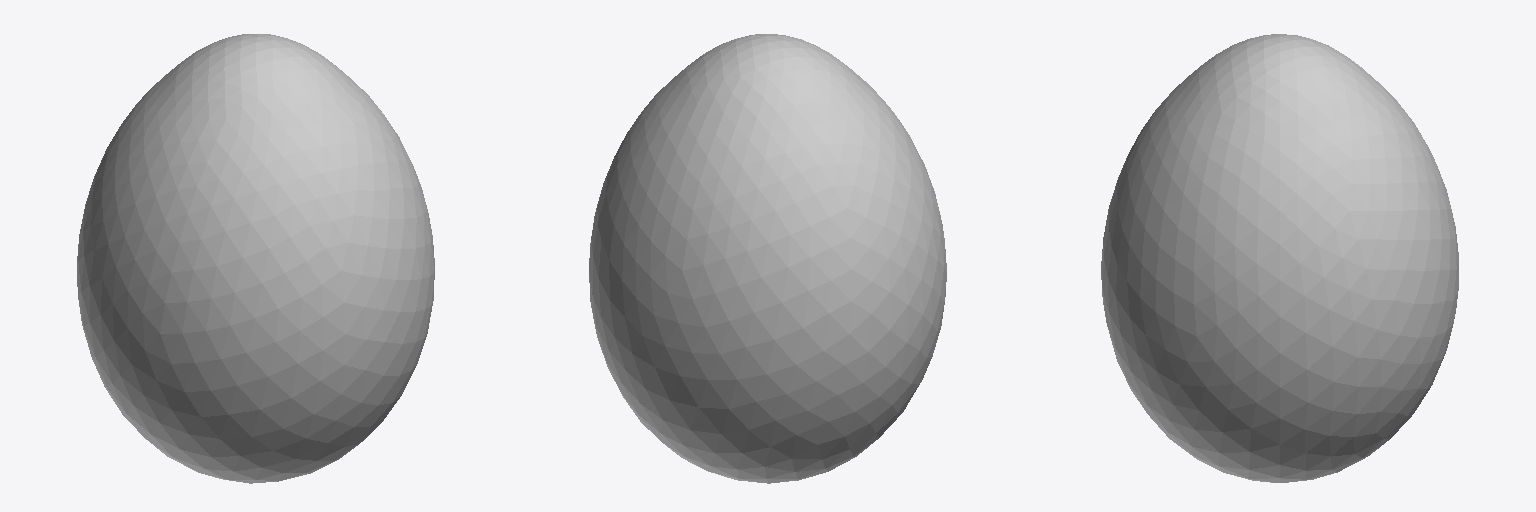
The model's file is oeuf_tesselation.obj.
3 views of the same model, side by side, from view 1: azimuth 30°, elevation 25°; view 2: azimuth 150°, elevation 25°; view 3: azimuth 270°, elevation 25° (orthographic).
Parts seen in each view (by area): view 1: Mesh; view 2: Mesh; view 3: Mesh.
Boxes of the visible parts, <box> form: Mesh: <box>77,34,434,483</box>; Mesh: <box>589,34,946,483</box>; Mesh: <box>1101,34,1458,482</box>.
Size of the model in its own units: 1.56 by 2.05 by 1.56.